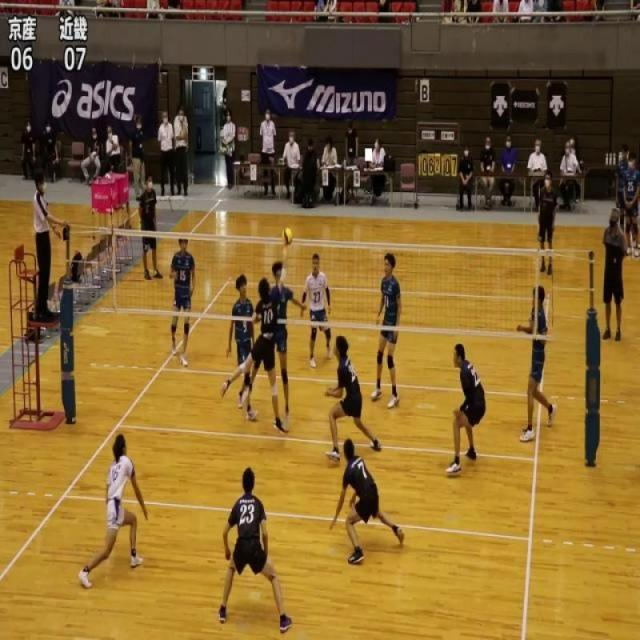volleyball: (282, 226, 293, 246)
